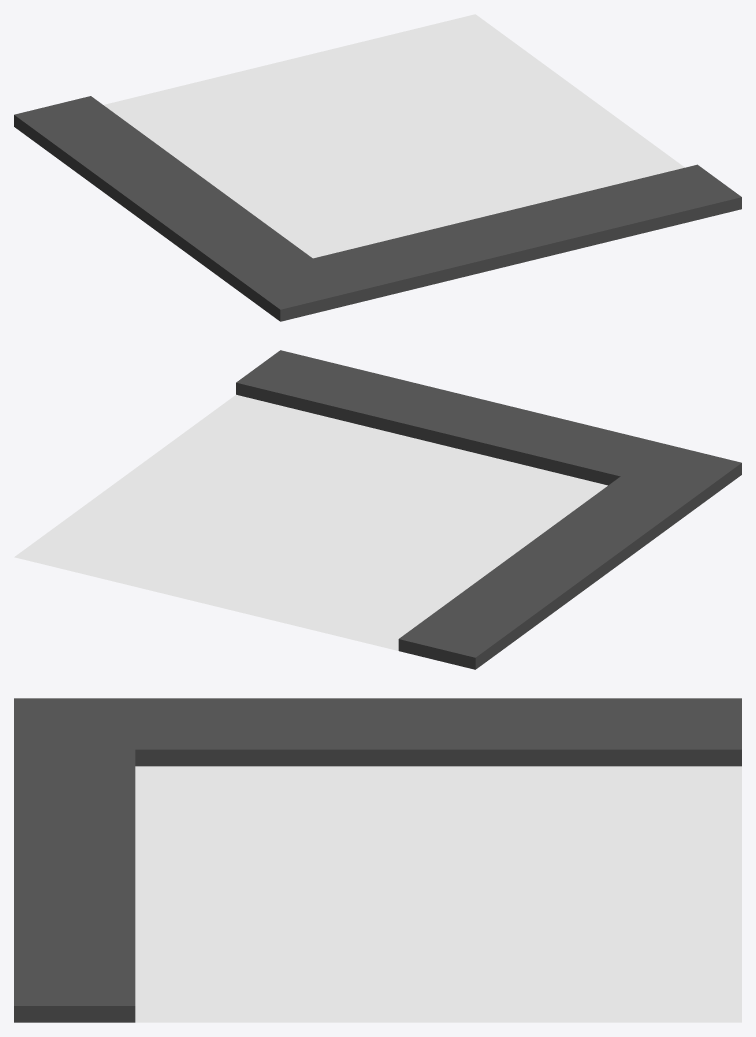
The model's file is RoadCorner.fbx.
3 views of the same model, one above another, from view 1: azimuth 30°, elevation 25°; view 2: azimuth 150°, elevation 25°; view 3: azimuth 270°, elevation 25° (orthographic). The views are drawn at different scales.
Parts seen in each view (by area): view 1: RoadCorner; view 2: RoadCorner; view 3: RoadCorner.
Boxes of the visible parts, <box> form: RoadCorner: <box>14,14,741,321</box>; RoadCorner: <box>14,350,741,669</box>; RoadCorner: <box>14,698,741,1022</box>.
Size of the model in its own units: 1600 by 40 by 1600.
